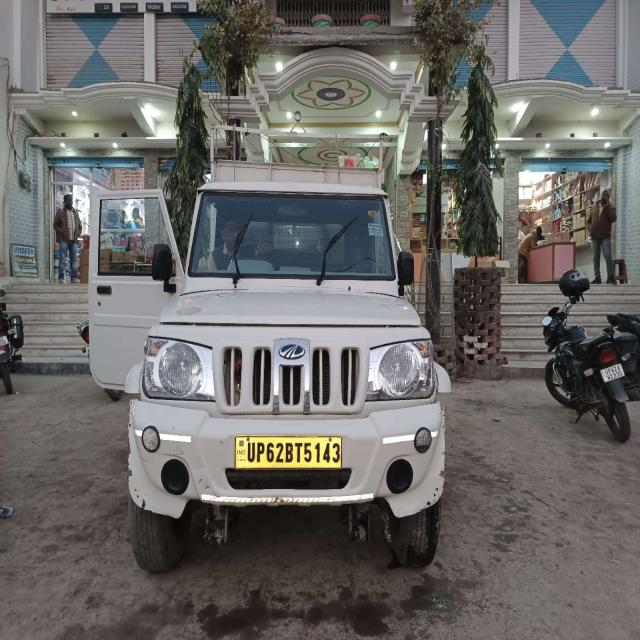light_vehicle: (85, 175, 462, 522)
